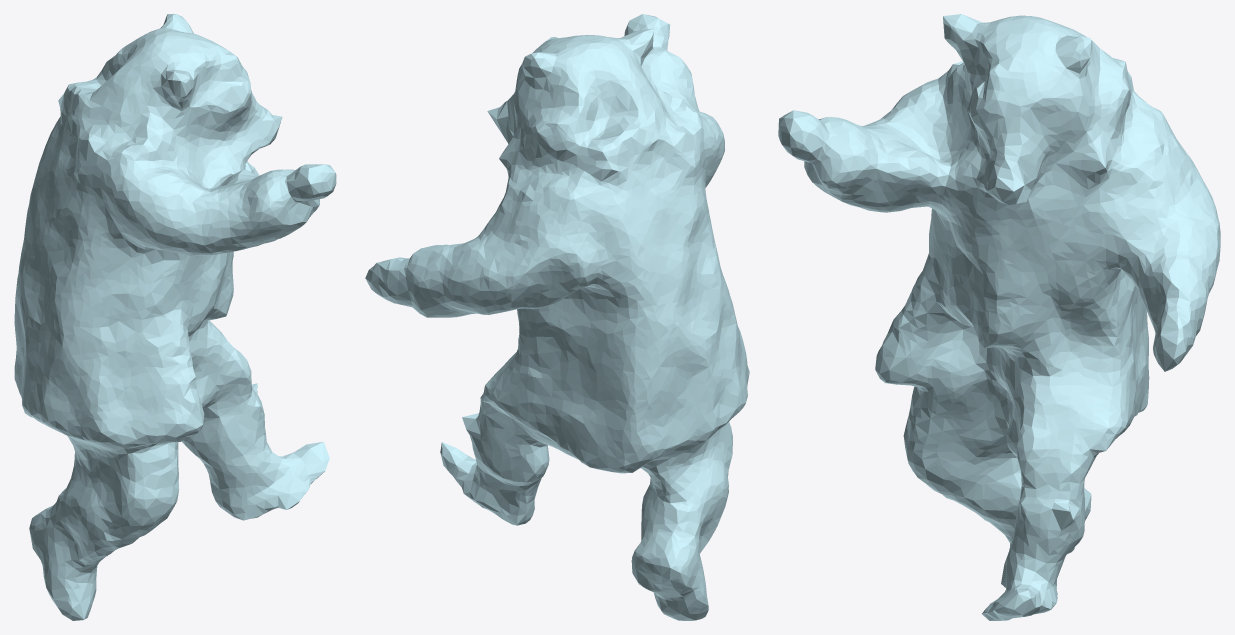
File: bear_dancing-canny.glb
The picture shows the model from 3 angles, left to right: view 1: azimuth 30°, elevation 25°; view 2: azimuth 150°, elevation 25°; view 3: azimuth 270°, elevation 25°; orthographic projection. The views are drawn at different scales.
Visible parts, largest first — view 1: extracted_mesh; view 2: extracted_mesh; view 3: extracted_mesh.
Part boxes in pixels (<box>): extracted_mesh: <box>14,14,336,620</box>; extracted_mesh: <box>365,14,749,620</box>; extracted_mesh: <box>778,14,1220,620</box>.
Size of the model in its own units: 0.6337 by 1.13 by 0.7309.
Materials: 1 (1 with a texture image).
